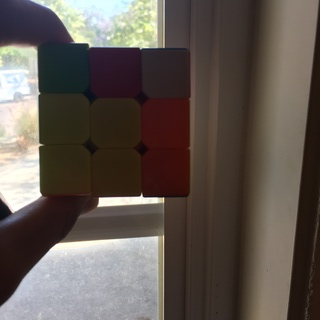face: (38, 43, 191, 198)
